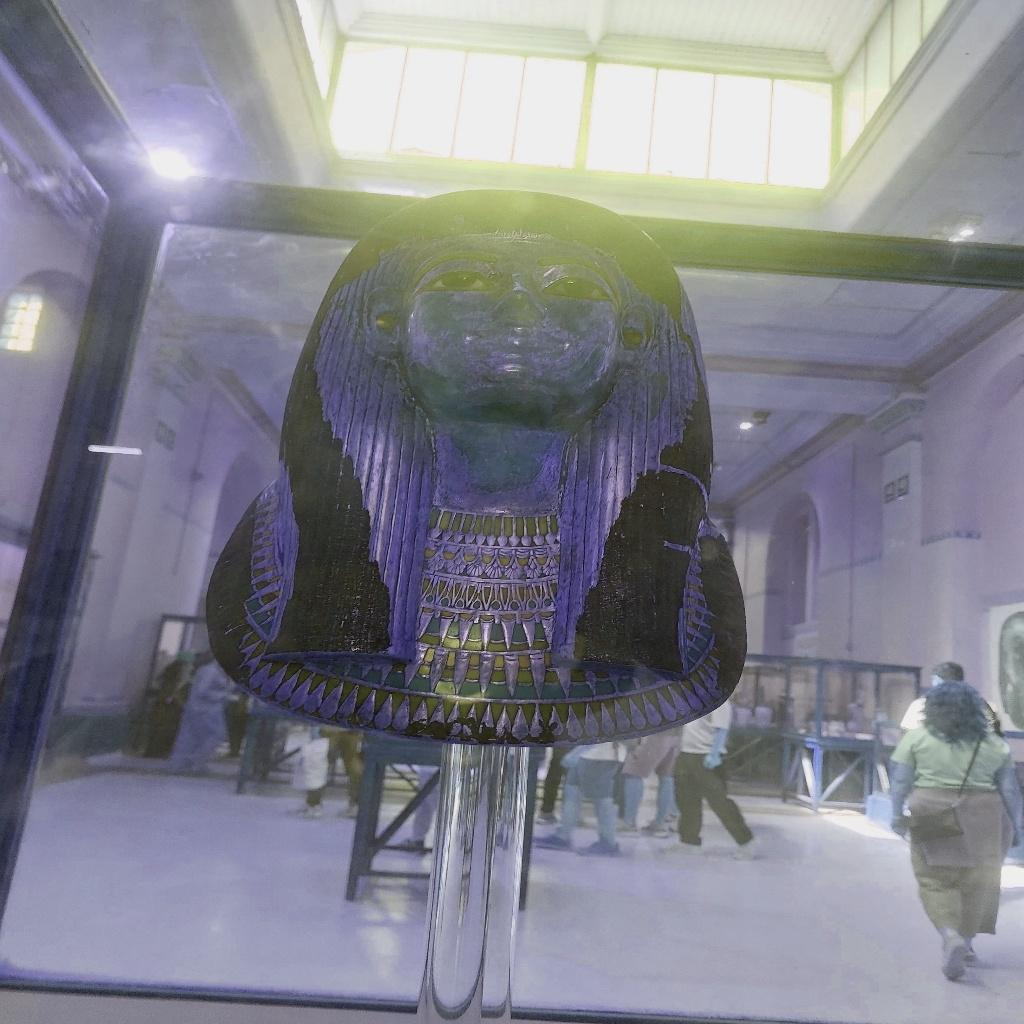Mask of Thuya: (202, 186, 751, 746)
